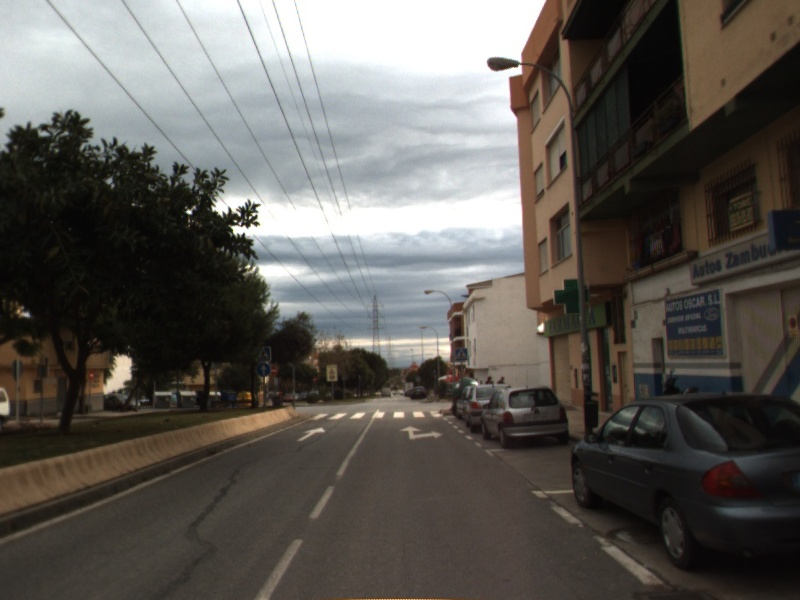STRAIGHT: (295, 425, 328, 443)
STRAIGHT_RIGHT: (399, 424, 445, 442)
